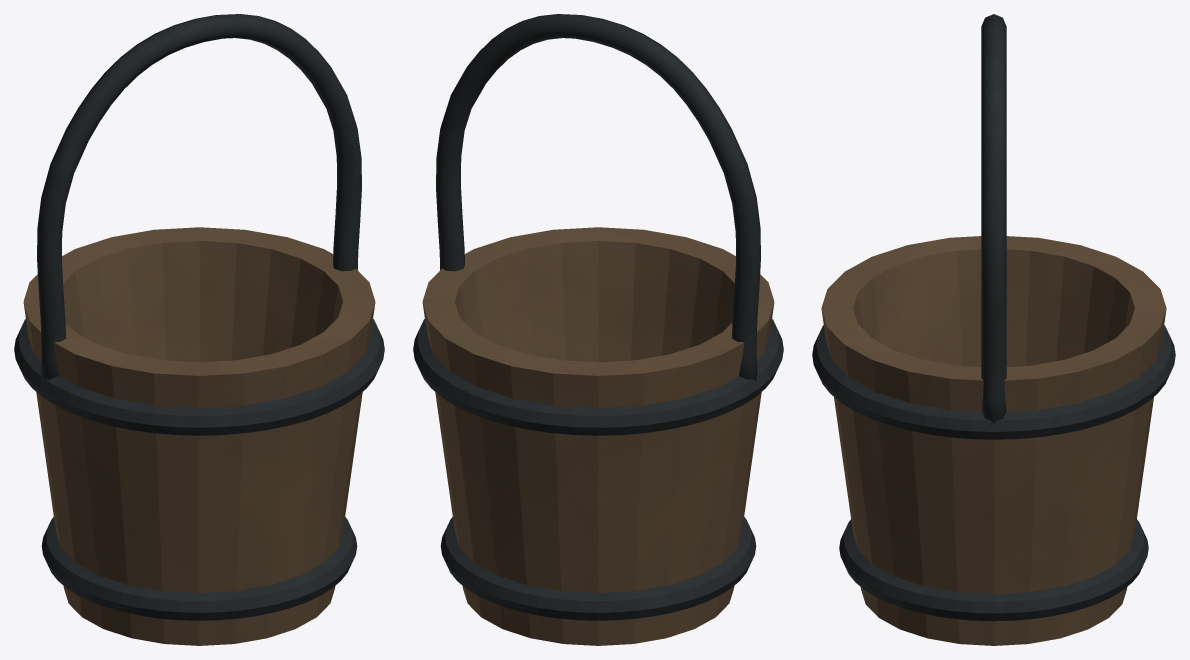
The model's file is Bucket.fbx.
3 renders of one model, left to right at view 1: azimuth 30°, elevation 25°; view 2: azimuth 150°, elevation 25°; view 3: azimuth 270°, elevation 25°, orthographic.
Visible parts, largest first — view 1: Bucket.001; view 2: Bucket.001; view 3: Bucket.001.
Boxes of the visible parts, x1,y1,x2,y2 form: Bucket.001: [14, 14, 384, 645]; Bucket.001: [413, 14, 783, 645]; Bucket.001: [812, 14, 1175, 645].
Size of the model in its own units: 0.6345 by 1.07 by 0.632.
